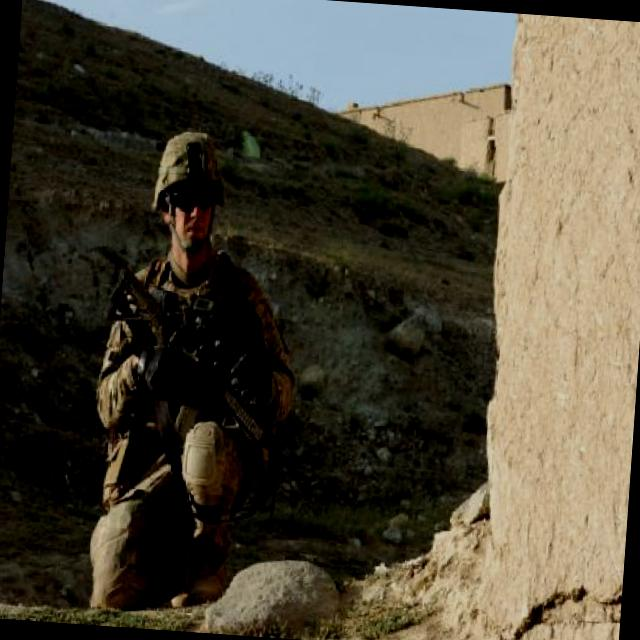Person: (81, 119, 313, 622)
